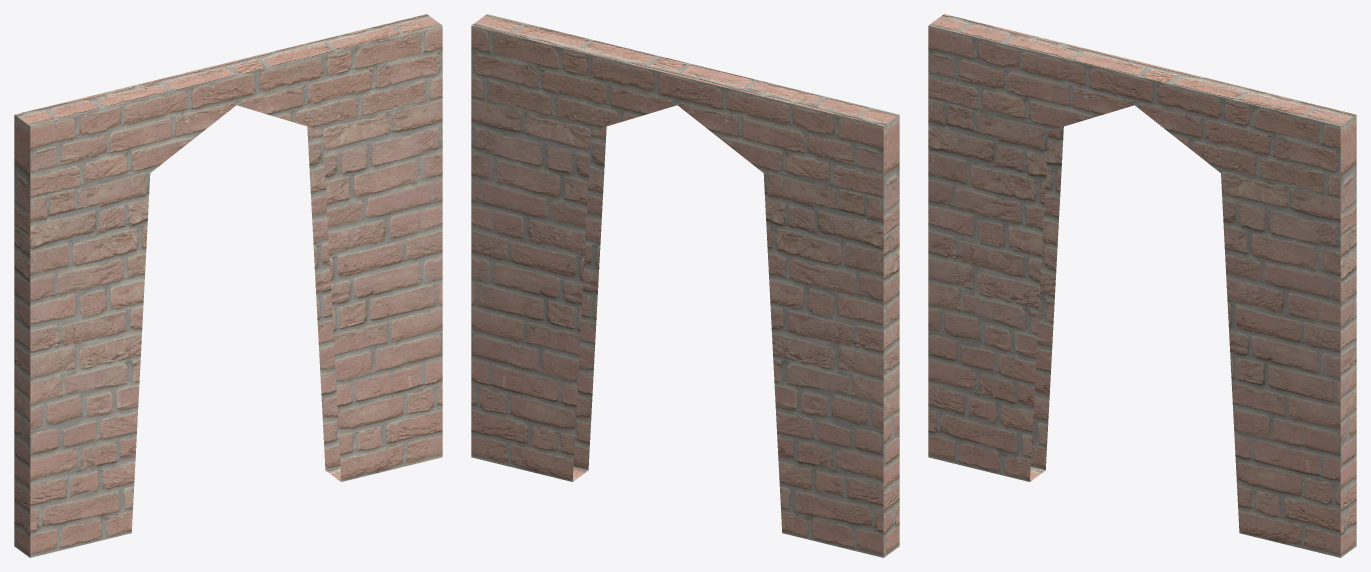
Rendered from WallDoubleDoors.fbx.
3 views of the same model, side by side, from view 1: azimuth 30°, elevation 25°; view 2: azimuth 150°, elevation 25°; view 3: azimuth 330°, elevation 25° (orthographic).
Parts seen in each view (by area): view 1: WallDoubleDoors; view 2: WallDoubleDoors; view 3: WallDoubleDoors.
Part boxes in pixels (left/top/right/bottom): WallDoubleDoors: left=14, top=14, right=442, bottom=557; WallDoubleDoors: left=471, top=14, right=899, bottom=557; WallDoubleDoors: left=928, top=14, right=1356, bottom=557.
Size of the model in its own units: 300 by 300 by 20.
Materials: 1 (1 with a texture image).
